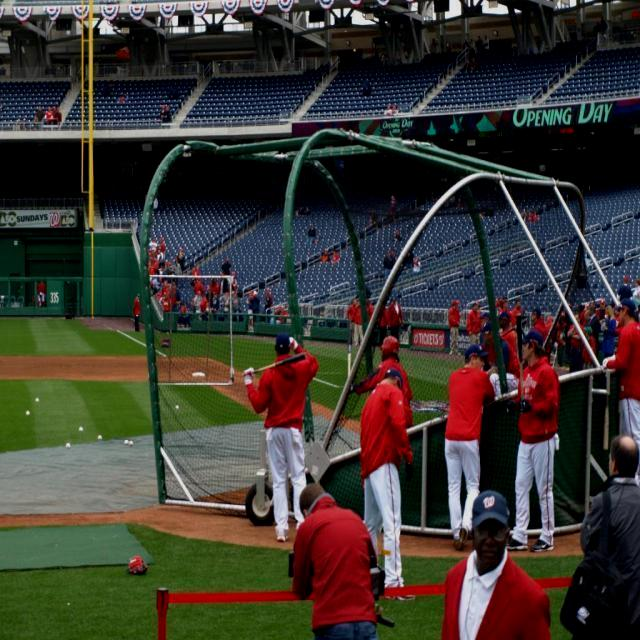ball: (64, 442, 72, 448), (96, 434, 104, 440), (128, 440, 134, 448), (78, 426, 84, 432), (124, 439, 128, 445), (26, 410, 30, 416), (35, 398, 39, 402)
bat: (254, 353, 306, 372)
